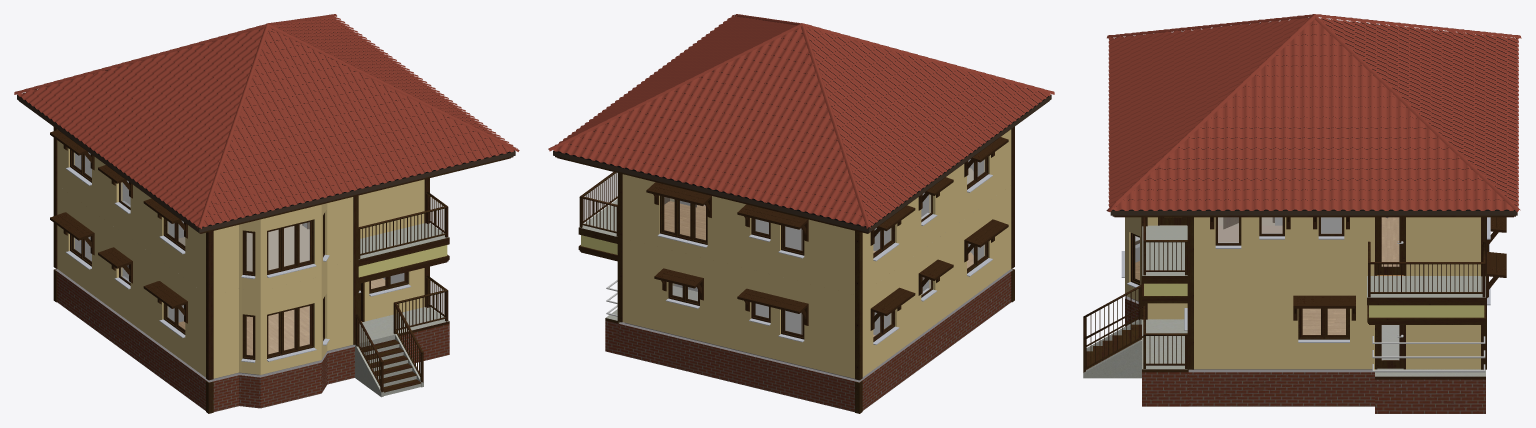
The model's file is realistic_house_with_interior.glb.
The picture shows the model from 3 angles, left to right: view 1: azimuth 30°, elevation 25°; view 2: azimuth 150°, elevation 25°; view 3: azimuth 270°, elevation 25°; orthographic projection. The views are drawn at different scales.
Parts seen in each view (by area): view 1: Plane.019_90, walls.001_95, walls_94, roof_91, walls.003_96, Cube.012_3, Plane.015_86, Window_97, Window.019_114, Cube.021_4, Stairs.003_92, Plane_71 (+10 smaller); view 2: Plane.019_90, walls.001_95, walls_94, roof_91, walls.003_96, Window.013_108, Cube.026_5, Plane.011_82, Plane.018_89, Window.018_113, Window.006_101, Window.008_103 (+5 smaller); view 3: Plane.019_90, walls.001_95, walls_94, roof_91, Plane.016_87, Plane.015_86, Plane.018_89, Cube.012_3, walls.003_96, Cube.026_5, Window.009_104, Door.006_12 (+12 smaller).
Boxes of the visible parts, box(x1,y1,x2,y2) form: Plane.019_90: box(14, 14, 519, 228); walls.001_95: box(55, 185, 424, 411); walls_94: box(53, 127, 449, 413); roof_91: box(17, 19, 515, 233); walls.003_96: box(50, 130, 187, 323); Cube.012_3: box(355, 276, 448, 392); Plane.015_86: box(359, 307, 449, 362); Window_97: box(267, 303, 316, 361); Window.019_114: box(267, 219, 316, 277); Cube.021_4: box(358, 192, 448, 258); Stairs.003_92: box(361, 339, 421, 395); Plane_71: box(178, 278, 385, 355); Plane.019_90: box(548, 14, 1054, 228); walls.001_95: box(618, 185, 1012, 412); walls_94: box(578, 126, 1014, 413); roof_91: box(553, 30, 1051, 233); walls.003_96: box(646, 137, 1008, 330); Window.013_108: box(657, 196, 707, 247); Cube.026_5: box(579, 172, 617, 236); Plane.011_82: box(664, 201, 705, 239); Plane.018_89: box(578, 235, 617, 261); Window.018_113: box(778, 225, 804, 258); Window.006_101: box(778, 309, 804, 342); Window.008_103: box(665, 282, 699, 308); Plane.019_90: box(1106, 14, 1521, 212); walls.001_95: box(1125, 217, 1480, 406); walls_94: box(1141, 217, 1486, 369); roof_91: box(1110, 19, 1517, 217); Plane.016_87: box(1375, 369, 1485, 413); Plane.015_86: box(1142, 319, 1188, 406); Plane.018_89: box(1142, 283, 1485, 324); Cube.012_3: box(1083, 285, 1187, 372); walls.003_96: box(1210, 217, 1506, 320); Cube.026_5: box(1368, 241, 1485, 297); Window.009_104: box(1298, 308, 1349, 342); Door.006_12: box(1377, 217, 1403, 274).
Bounding box in the file's own units: 8.27 × 7.34 × 8.71.
17 materials, 5 textured.
